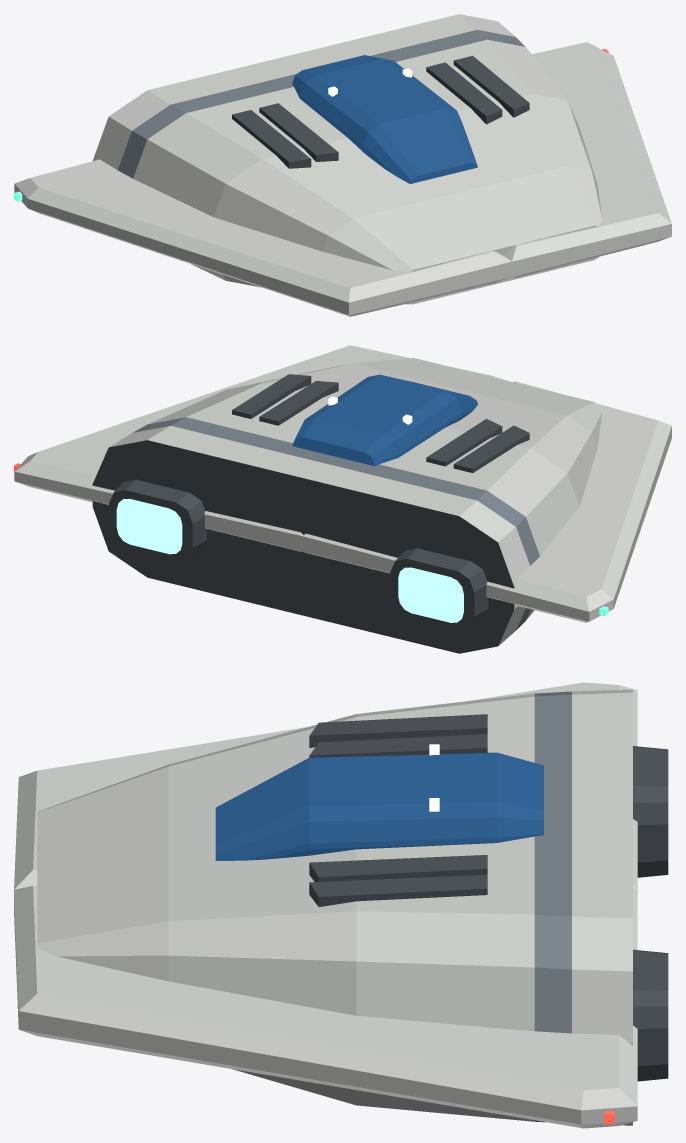
Rendered from sidewinder.glb.
3 renders of one model, top to bottom at view 1: azimuth 30°, elevation 25°; view 2: azimuth 150°, elevation 25°; view 3: azimuth 270°, elevation 25°, orthographic. The views are drawn at different scales.
Visible parts, largest first — view 1: sidewinder; view 2: sidewinder; view 3: sidewinder.
Part boxes in pixels (x1,y1,x2,y2): sidewinder: (14, 14, 671, 316); sidewinder: (14, 345, 671, 653); sidewinder: (14, 682, 668, 1128).
Bounding box in the file's own units: 21.6 × 6 × 14.03.
